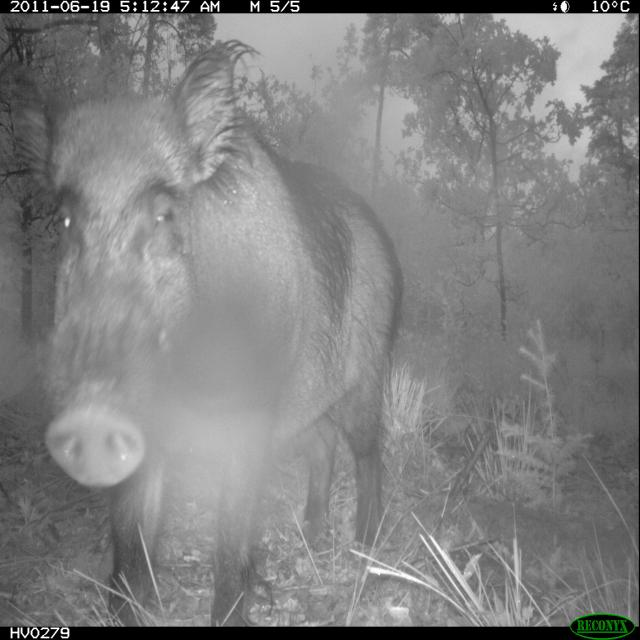boar: (0, 36, 456, 620)
